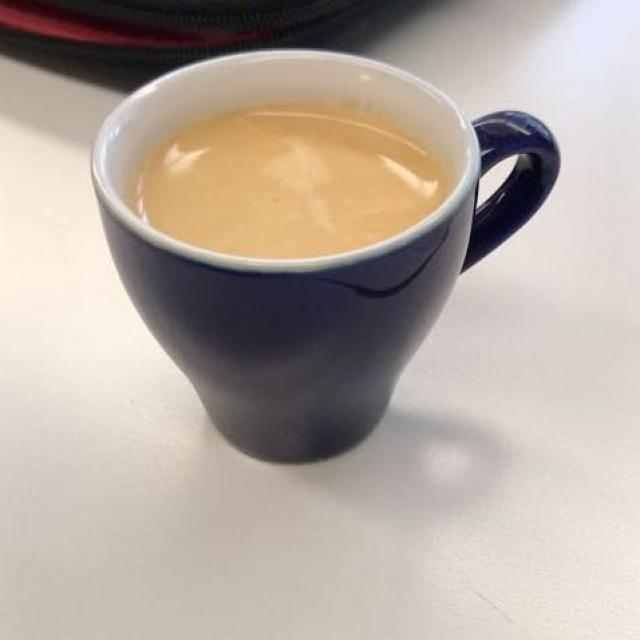coffee: (145, 100, 448, 255)
espresso: (145, 100, 448, 255)
